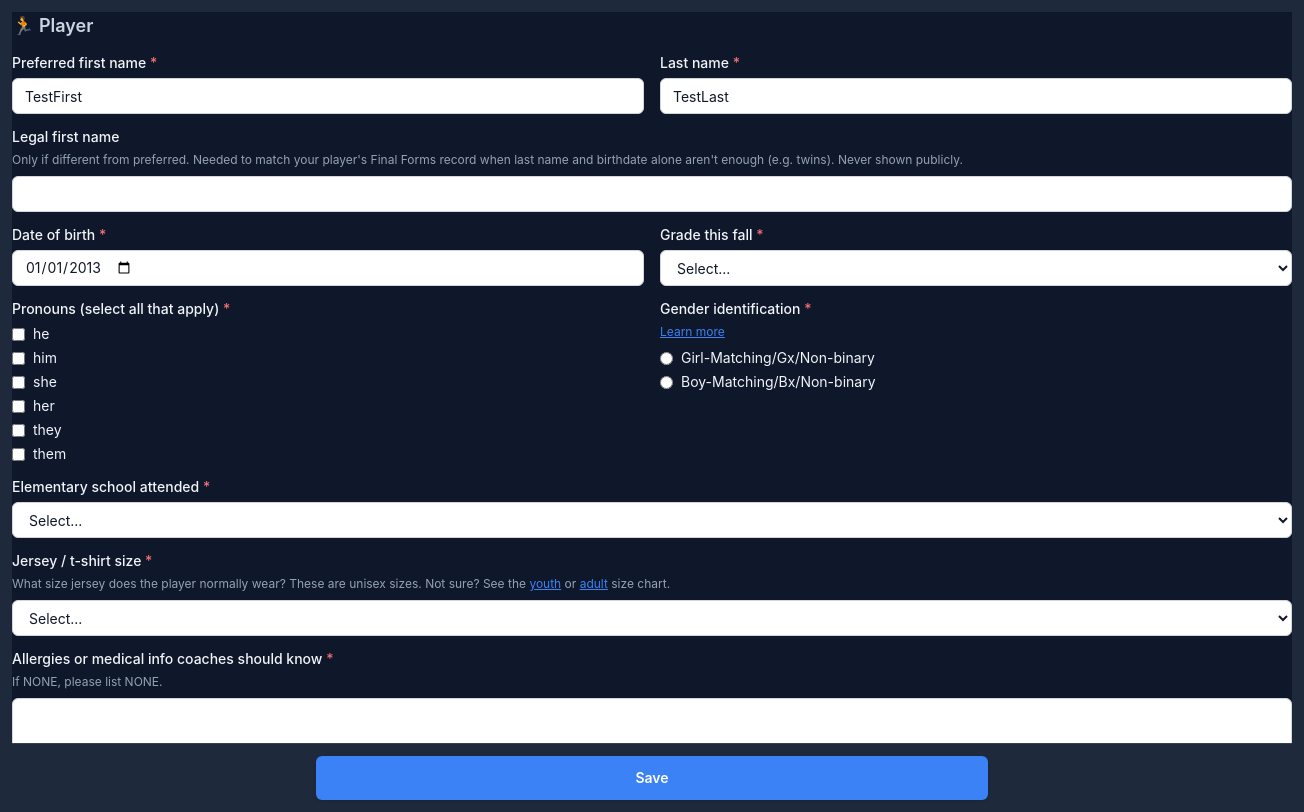
Test: PlayerProfileForm — Saved/error confirmation › shows an error alert on a failed save, and clears it on the next edit
This screenshot has width=1304, height=812.
Click the button "Save". click: (652, 778)
box: [316,756,988,800]
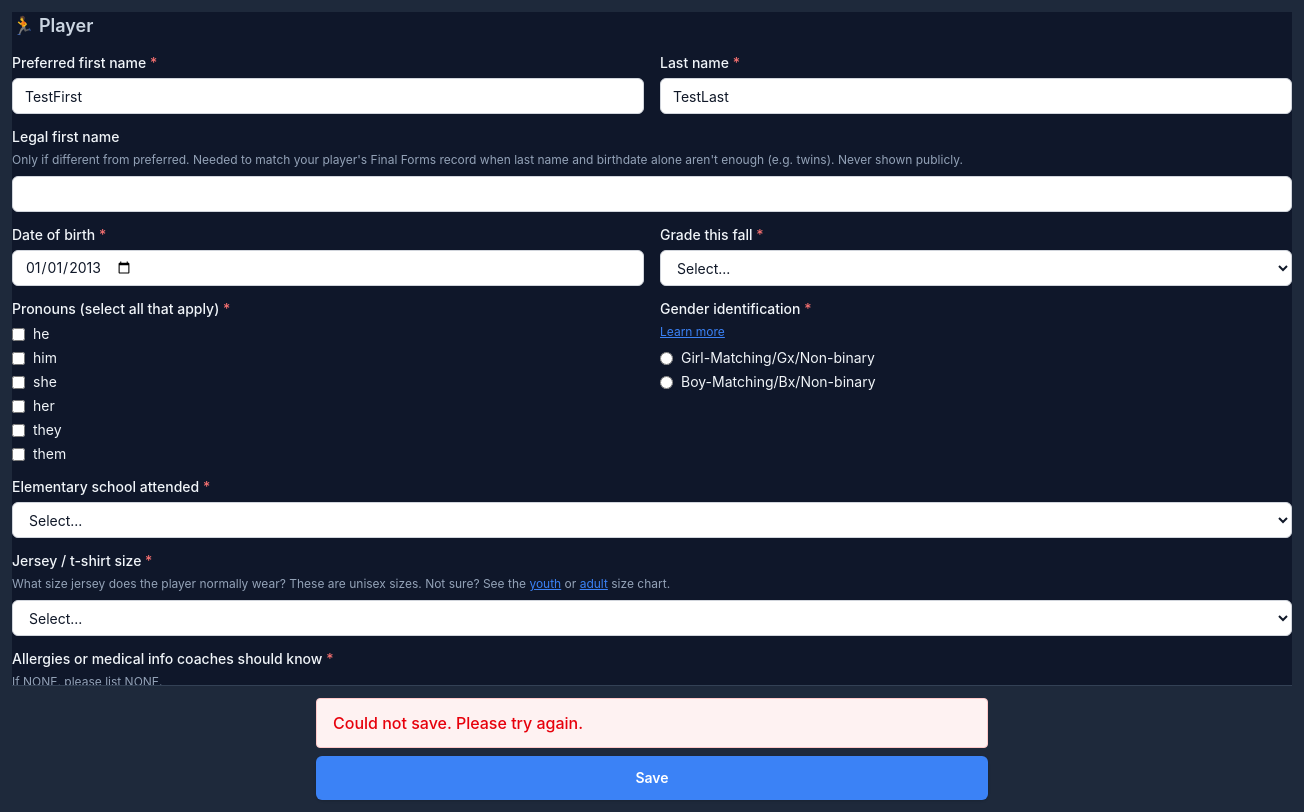
Check: the message reads "Could not save. Please try again.", box [333,713,583,733]
Type "X" into the field named "preferredFirstName" below "Preferred first name". click: (328, 96)
box: [12,78,644,114]
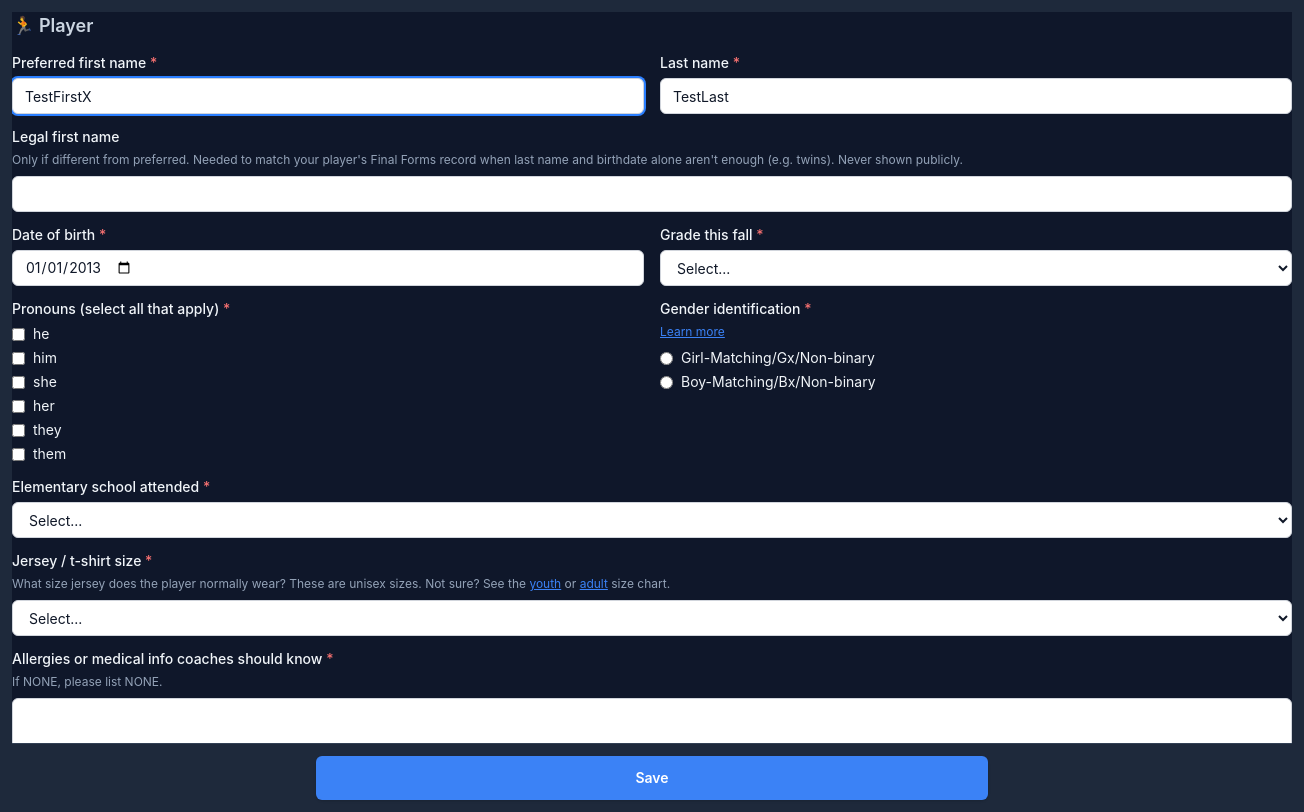
Check: the message "Could not save. Please try again." is gone
